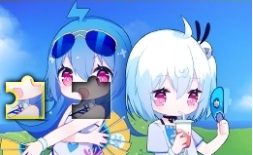gap: (72, 76, 111, 119)
